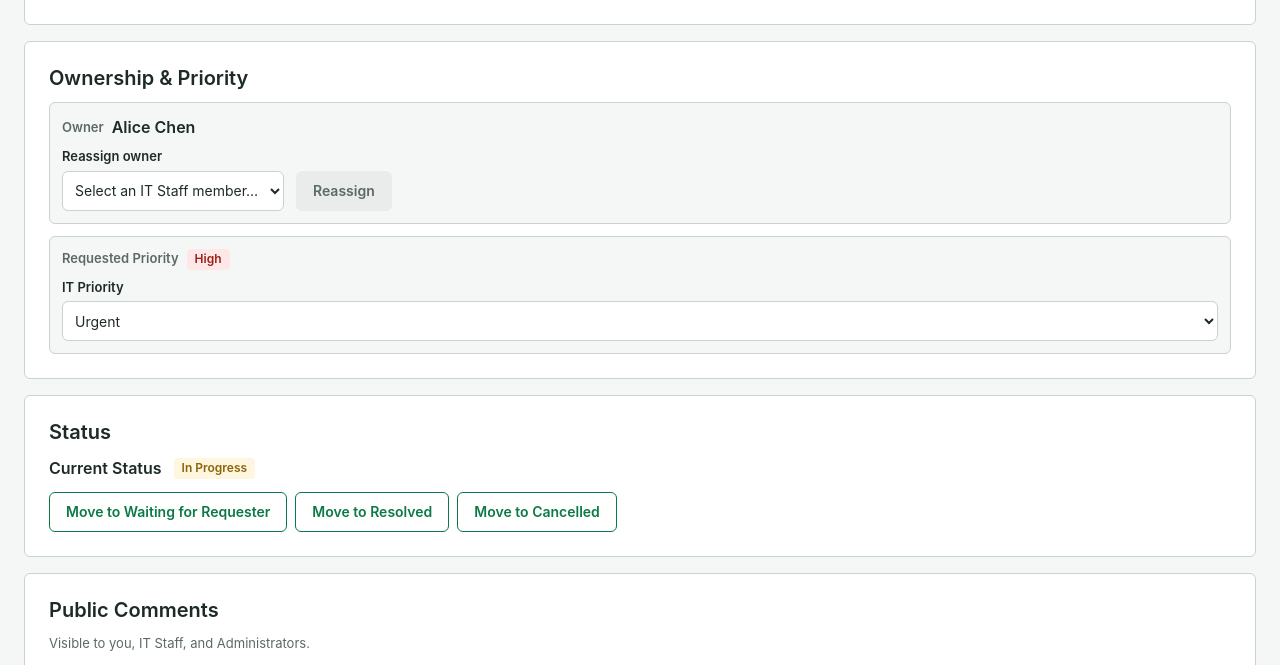
Test: UI-06 — ownership, IT Priority, and page states › saves IT Priority on change and never touches Requested Priority
The width and height of the screenshot is (1280, 665).
(page scrolled)
Expected: the text "High" is shown, [187, 249, 230, 270]
Select "High" in the dropdown labelled "IT Priority": (640,321) [62, 301, 1218, 341]
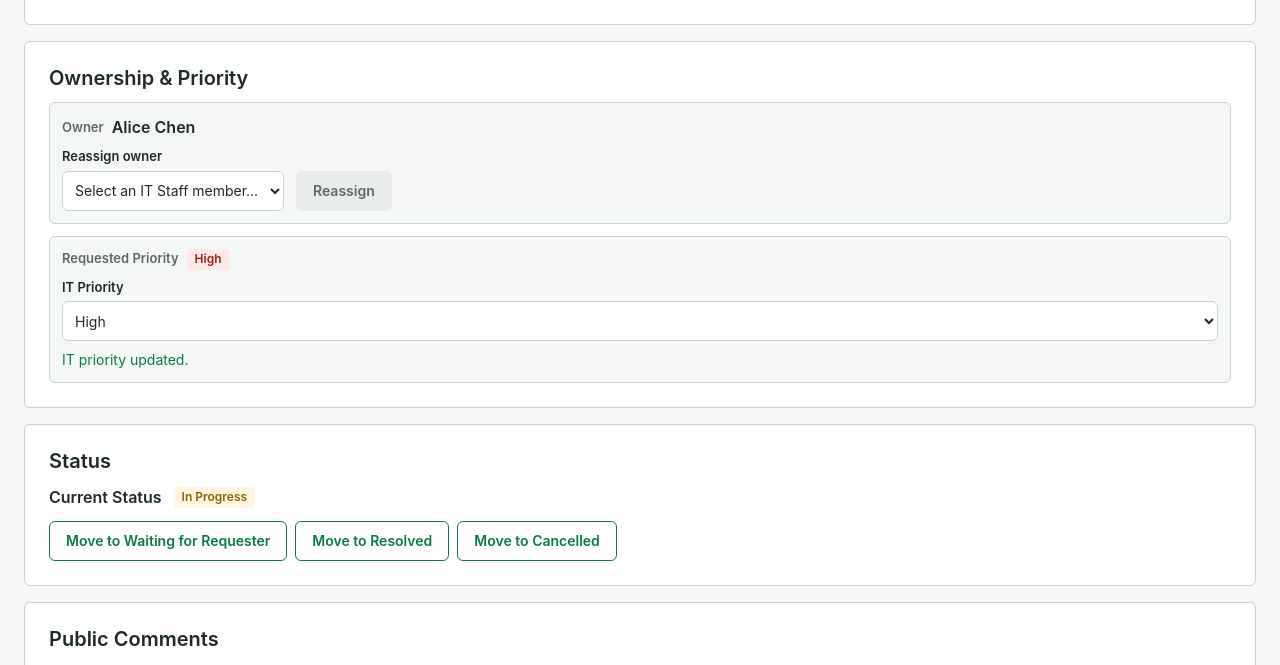
Expected: the message "IT priority updated." is shown, [62, 351, 188, 368]
